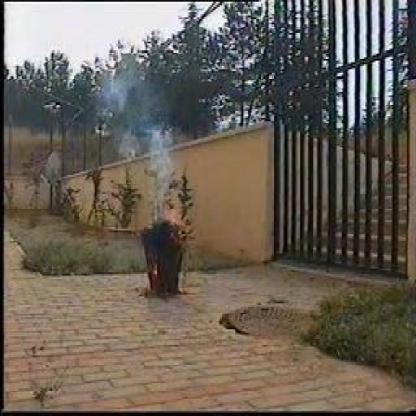-: (90, 74, 176, 183)
foggia-v2-map80-epoch100 - v1 4323: (156, 193, 196, 233)
